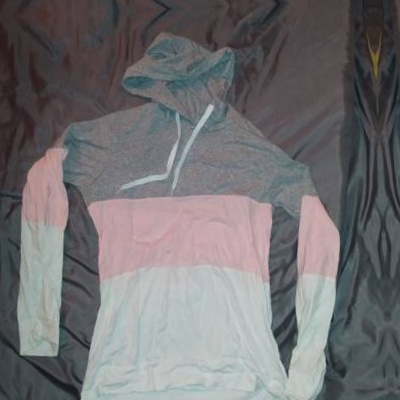Hoodie: (2, 34, 362, 400)
